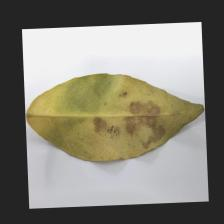canker: (80, 94, 171, 150)
